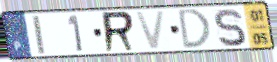1: (66, 14, 85, 54)
D: (177, 7, 213, 51)
I: (30, 14, 47, 56)
R: (101, 10, 137, 54)
S: (212, 7, 248, 49)
V: (133, 9, 168, 52)
